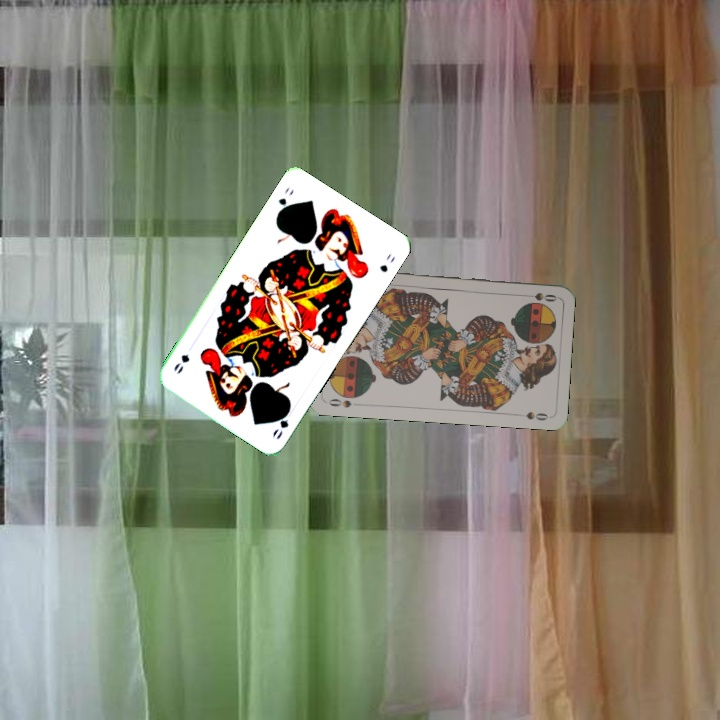GO: (268, 403, 297, 442), (273, 183, 296, 219)
SO: (519, 289, 559, 304), (323, 395, 354, 410)
